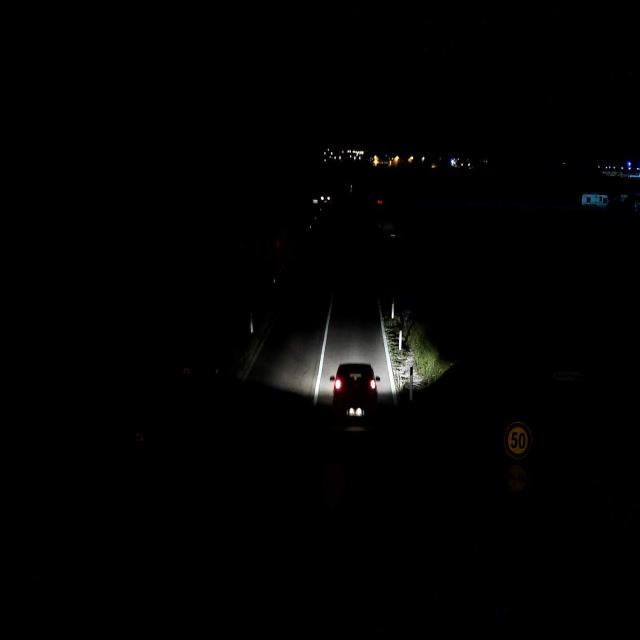car: (328, 361, 380, 430)
